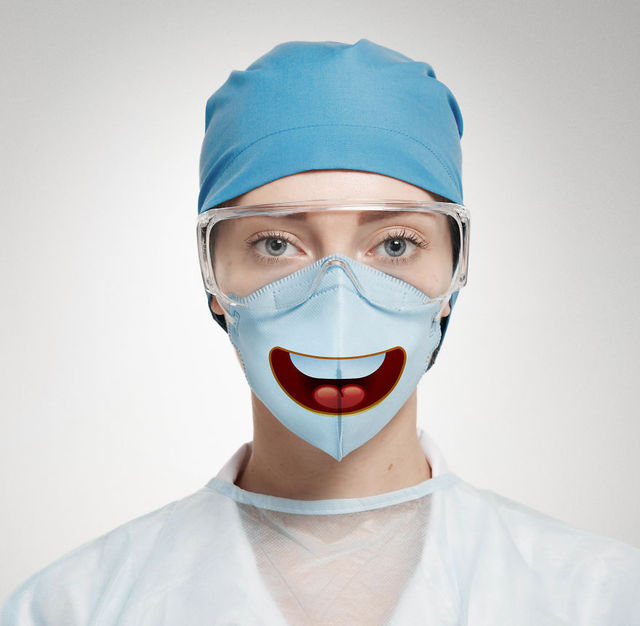mask: (243, 266, 429, 436)
